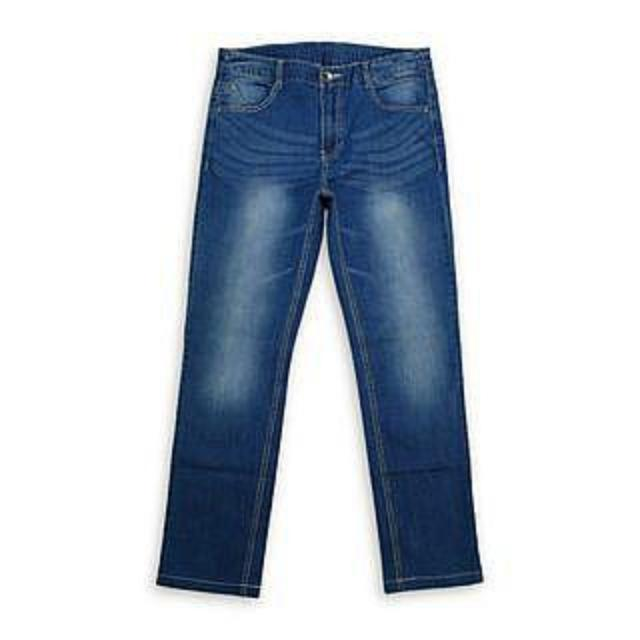TROUSER: (141, 32, 536, 606)
